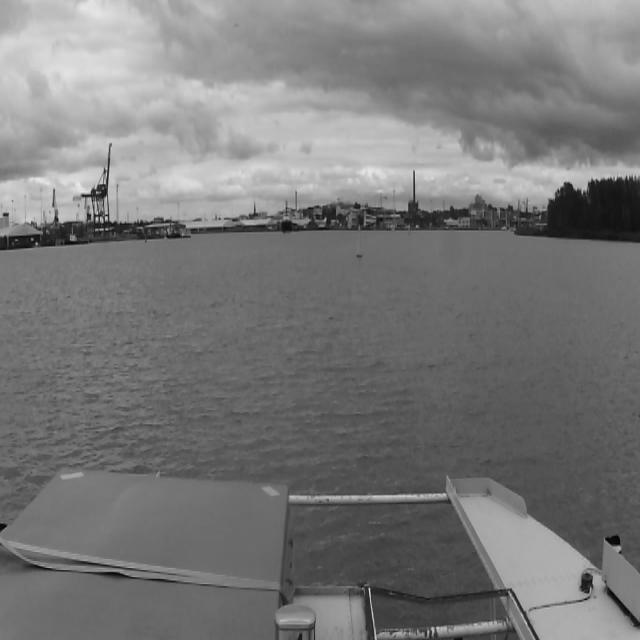buoy: (355, 226, 363, 257)
ship: (282, 199, 292, 231)
